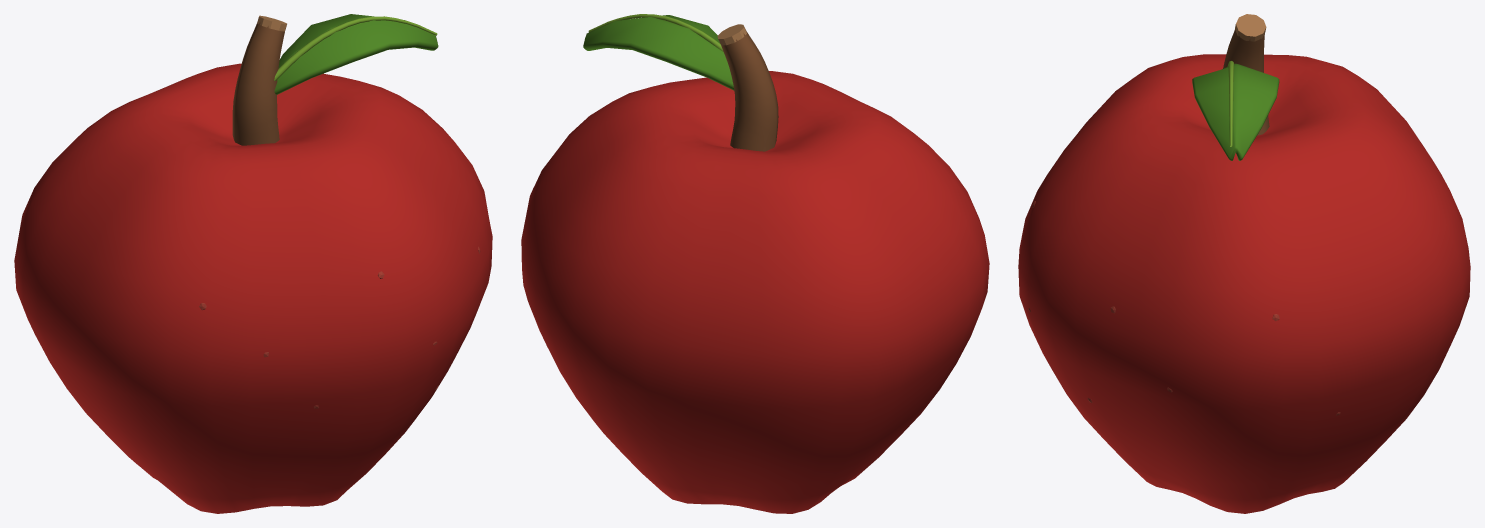
Rendered from apple.glb.
3 renders of one model, left to right at view 1: azimuth 30°, elevation 25°; view 2: azimuth 150°, elevation 25°; view 3: azimuth 270°, elevation 25°, orthographic. The views are drawn at different scales.
Visible parts, largest first — view 1: fruit-body, leaf, stem; view 2: fruit-body, leaf, stem; view 3: fruit-body, leaf, stem.
Part boxes in pixels (x1,y1,x2,y2): fruit-body: [14, 63, 492, 513]; leaf: [274, 14, 438, 94]; stem: [232, 15, 286, 145]; fruit-body: [521, 71, 989, 513]; leaf: [583, 14, 734, 90]; stem: [717, 24, 778, 151]; fruit-body: [1018, 54, 1470, 513]; leaf: [1192, 61, 1279, 160]; stem: [1223, 14, 1269, 135].
Size of the model in its own units: 0.9542 by 1 by 0.8808.
